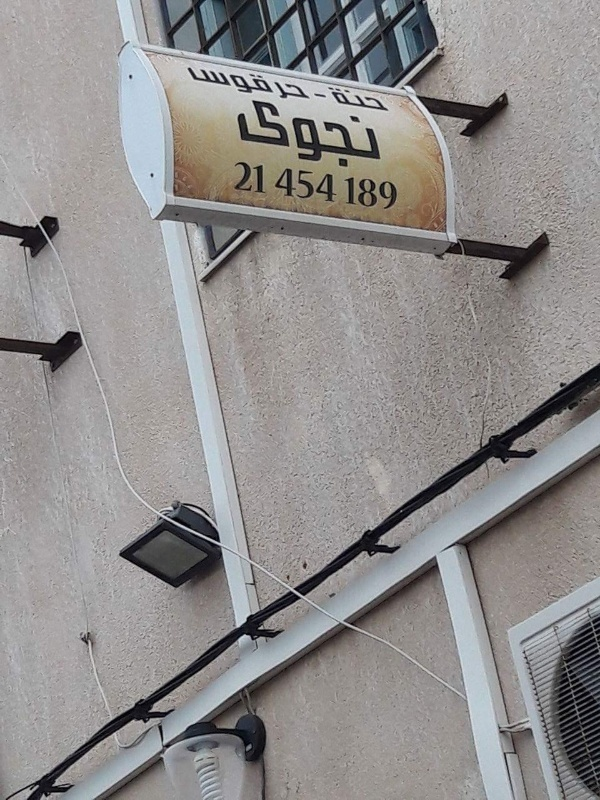text: (241, 96, 256, 174), (257, 96, 272, 174), (273, 96, 288, 174), (289, 96, 304, 174), (305, 96, 320, 174), (321, 96, 336, 174), (337, 96, 352, 174), (353, 96, 368, 174), (369, 96, 384, 174), (193, 60, 208, 106), (209, 60, 224, 106), (225, 60, 240, 106), (241, 60, 256, 106), (257, 60, 272, 106), (273, 60, 288, 106), (289, 60, 304, 106), (232, 96, 240, 174), (289, 164, 304, 205), (305, 164, 320, 205), (321, 164, 336, 205), (353, 172, 368, 212), (369, 172, 384, 212), (385, 172, 400, 212), (241, 158, 256, 197), (276, 164, 288, 205), (257, 158, 269, 197), (337, 85, 352, 114), (353, 85, 368, 114), (369, 85, 384, 114), (305, 60, 314, 106), (343, 172, 352, 212), (185, 60, 192, 106), (325, 85, 336, 114), (234, 158, 240, 197), (385, 85, 393, 114), (321, 87, 331, 104), (314, 87, 320, 104), (337, 164, 339, 205), (401, 172, 402, 212)
